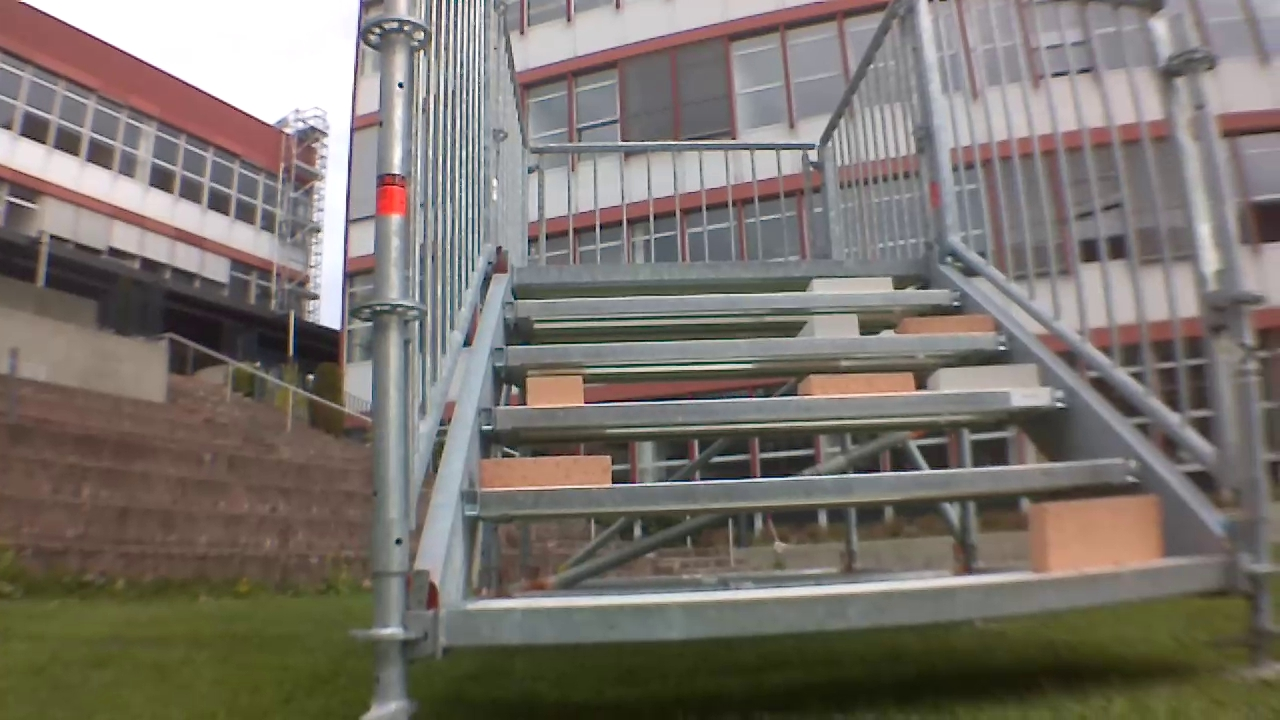brick: (1023, 487, 1169, 569), (475, 451, 618, 497), (794, 372, 912, 401), (889, 312, 995, 340), (925, 367, 1043, 389), (523, 375, 589, 406), (800, 279, 897, 297), (800, 315, 856, 340)
edge: (452, 554, 1253, 661), (465, 454, 1148, 522), (475, 381, 1079, 438), (502, 288, 969, 323), (487, 338, 1023, 355), (516, 262, 930, 279)
stairs: (390, 0, 1270, 712)
steps: (440, 252, 1238, 666)
